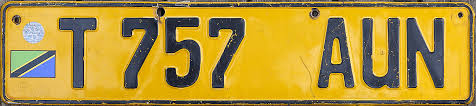T: (52, 10, 114, 94)
